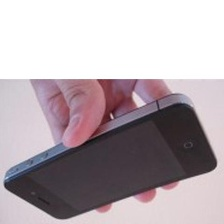phone: (0, 88, 220, 224)
